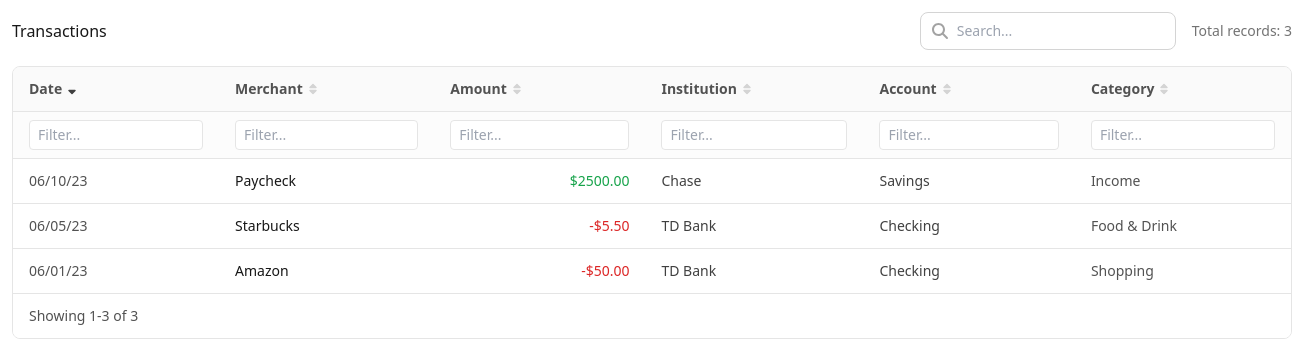
Test: MasterDataTable › Empty State › should show empty message when no transactions match filters
# Search for something that doesn't exist
Type "nonexistent" into the field with placeholder "Search...". click: (1048, 31)
box: [920,12,1176,50]
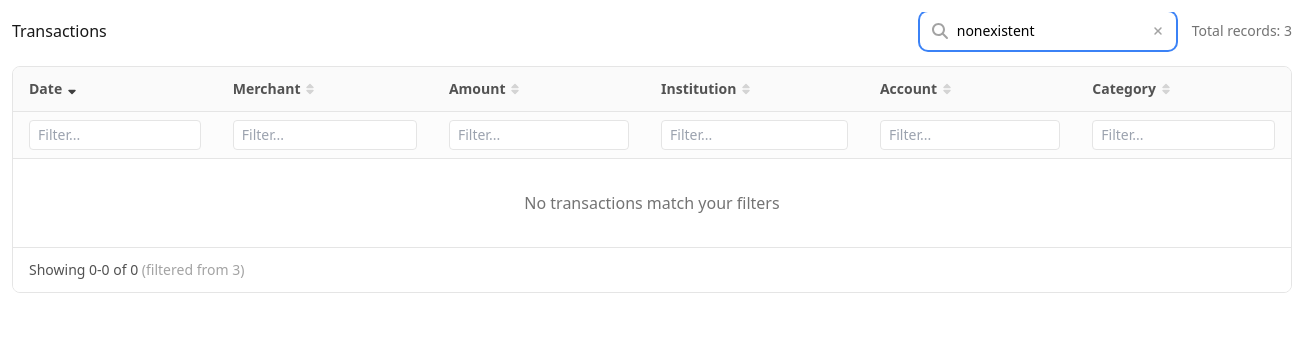
Result: the text "No transactions match your filters" is shown at [13,158,1291,247]
